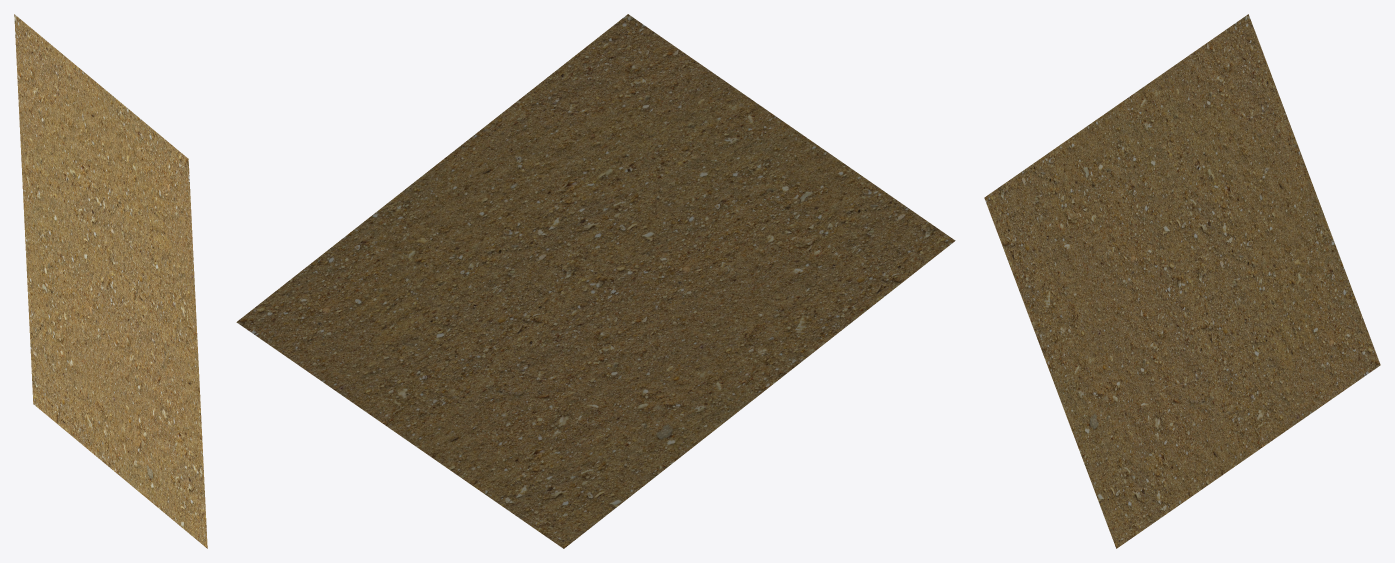
3 renders of one model, left to right at view 1: azimuth 30°, elevation 25°; view 2: azimuth 150°, elevation 25°; view 3: azimuth 270°, elevation 25°, orthographic. The views are drawn at different scales.
Parts seen in each view (by area): view 1: ground; view 2: ground; view 3: ground.
Part boxes in pixels (left/top/right/bottom): ground: left=14, top=14, right=207, bottom=548; ground: left=236, top=14, right=955, bottom=548; ground: left=984, top=14, right=1380, bottom=548.
Bounding box in the file's own units: 1000 × 1000 × 1333.
Materials: 1 (1 with a texture image).
